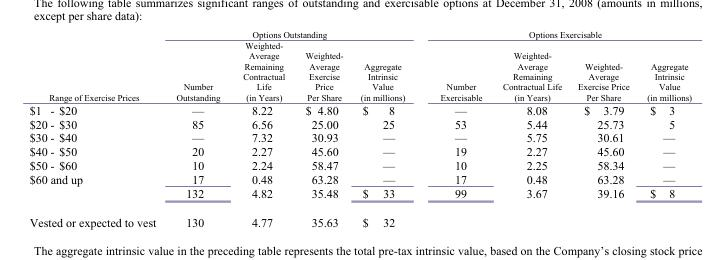table: (28, 29, 691, 229)
table column: (28, 29, 165, 229), (491, 29, 569, 229), (351, 29, 421, 229), (421, 29, 491, 229), (569, 29, 637, 229), (165, 29, 230, 229), (230, 29, 294, 229), (294, 29, 351, 229), (637, 29, 691, 229)
table column header: (28, 29, 691, 102)
table row: (28, 39, 691, 102), (28, 185, 691, 207), (28, 207, 691, 229), (28, 102, 691, 116), (28, 116, 691, 130), (28, 130, 691, 144), (28, 157, 691, 171), (28, 171, 691, 185), (28, 144, 691, 157), (28, 29, 691, 39)
table spanning cell: (28, 29, 165, 102), (421, 29, 691, 39), (165, 29, 421, 39)
